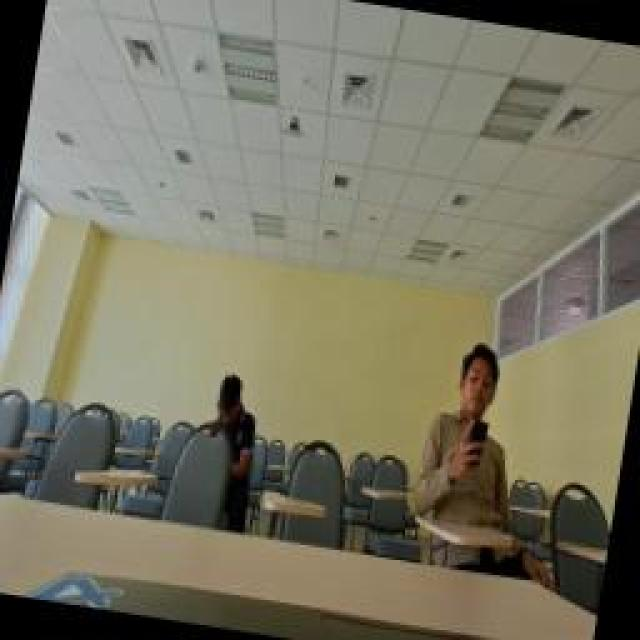phone: (408, 330, 538, 532)
study: (202, 363, 268, 475)
